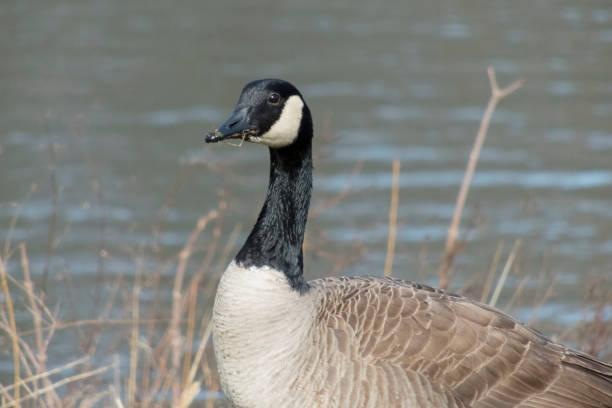Canadian-Goose: (203, 77, 612, 408)
